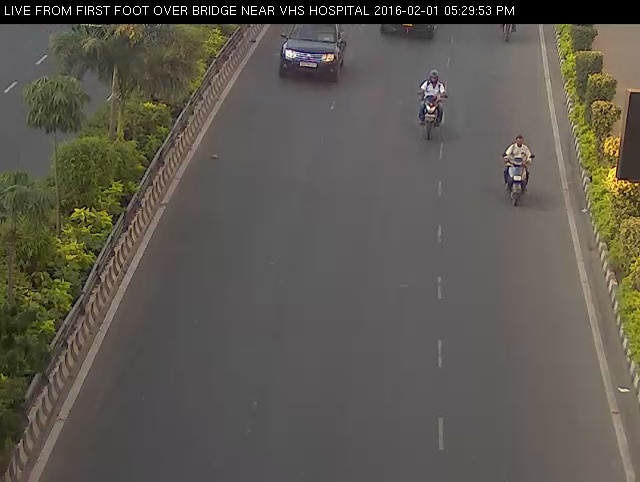Bus: (374, 9, 449, 49)
Car: (269, 17, 351, 89)
Person: (490, 122, 544, 216), (409, 61, 455, 150)
